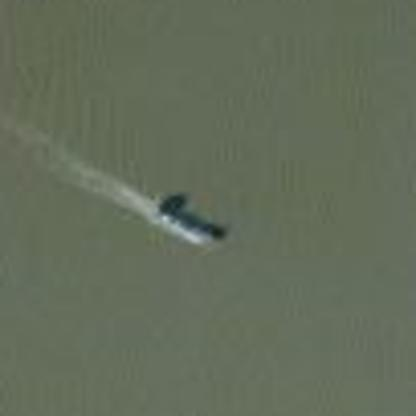ship: (141, 185, 234, 252)
